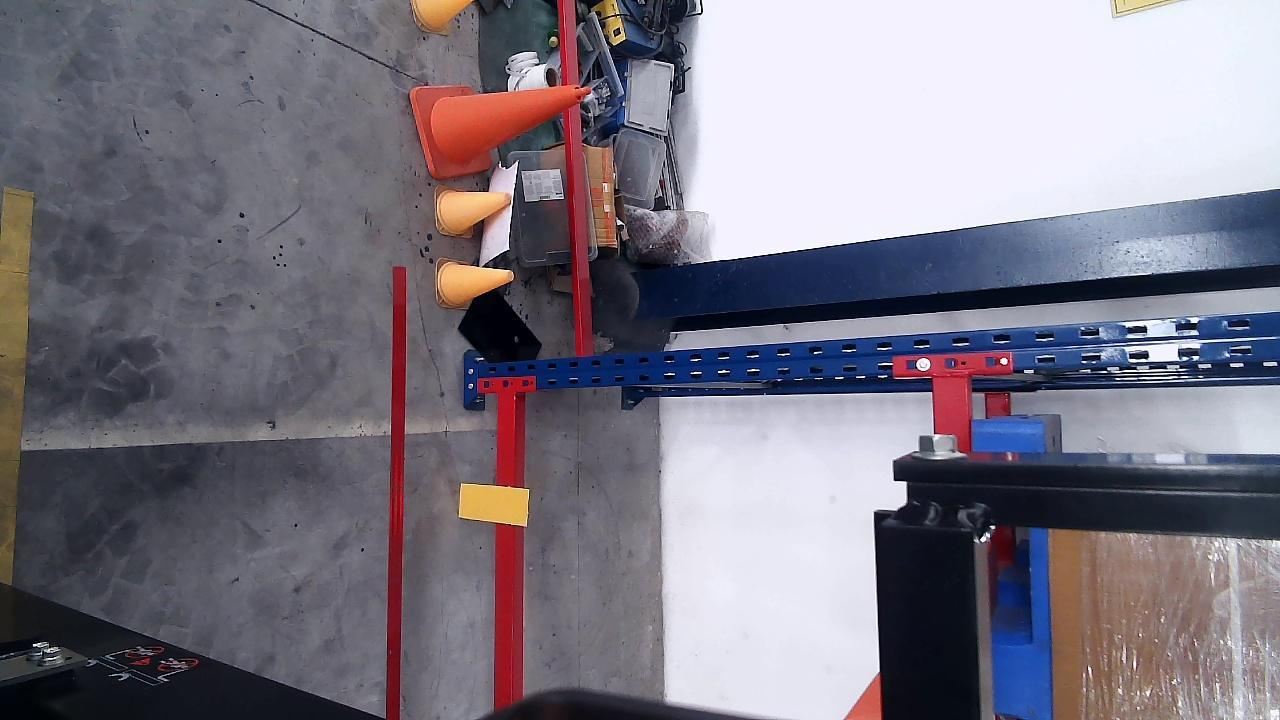h_rack: (497, 394, 517, 709)
orange_strip: (459, 483, 529, 527)
red_line: (389, 267, 404, 720)
yellow_line: (0, 187, 36, 588)
